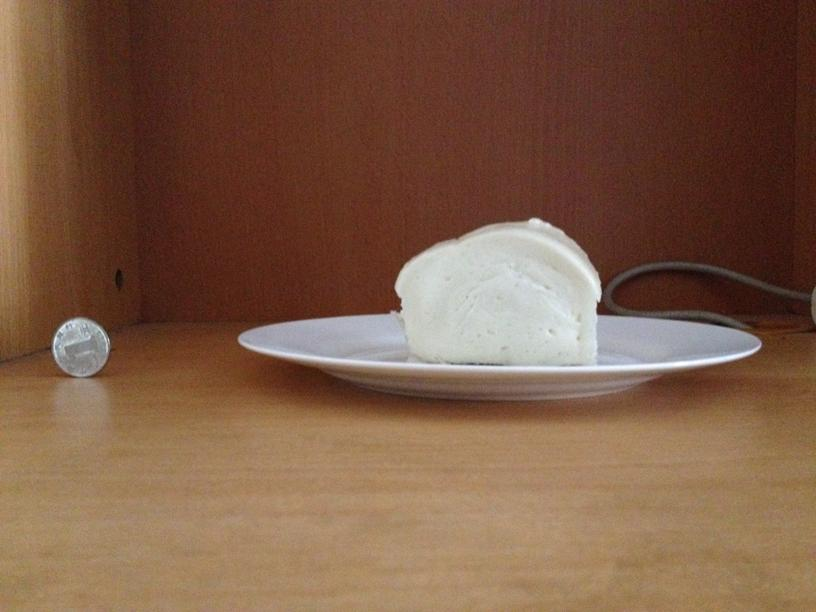bun: (394, 220, 602, 364)
coin: (50, 316, 109, 378)
